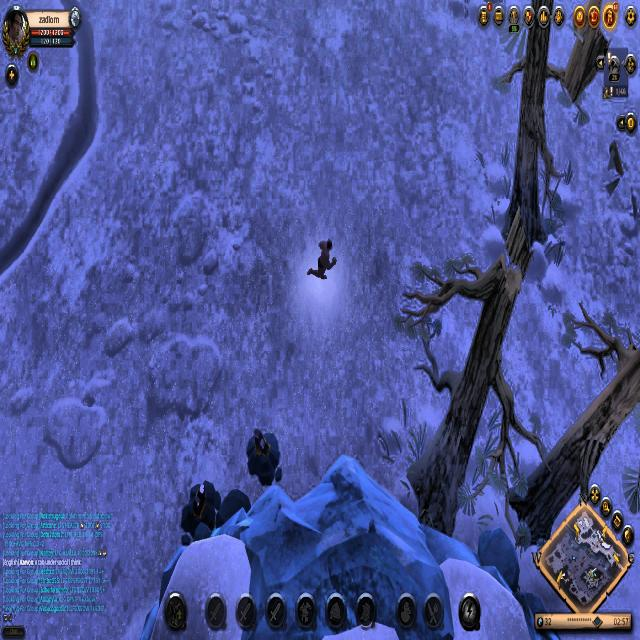copper_ore: (179, 479, 228, 548), (242, 431, 292, 488)
